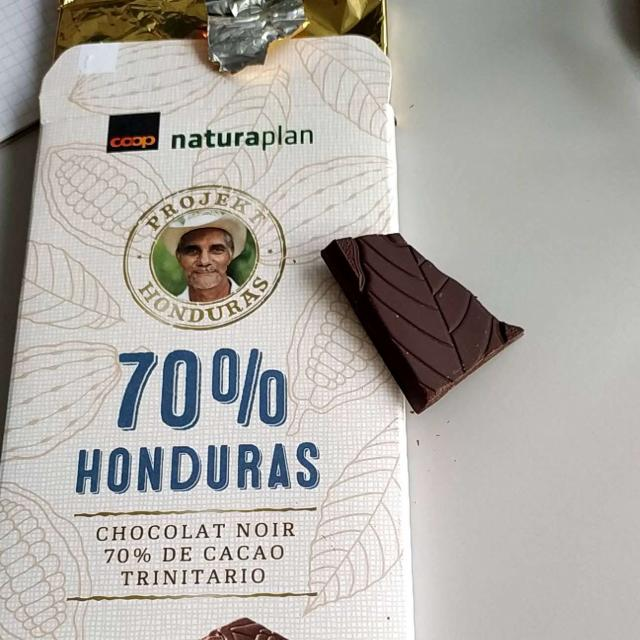dark-chocolate: (322, 238, 516, 412)
